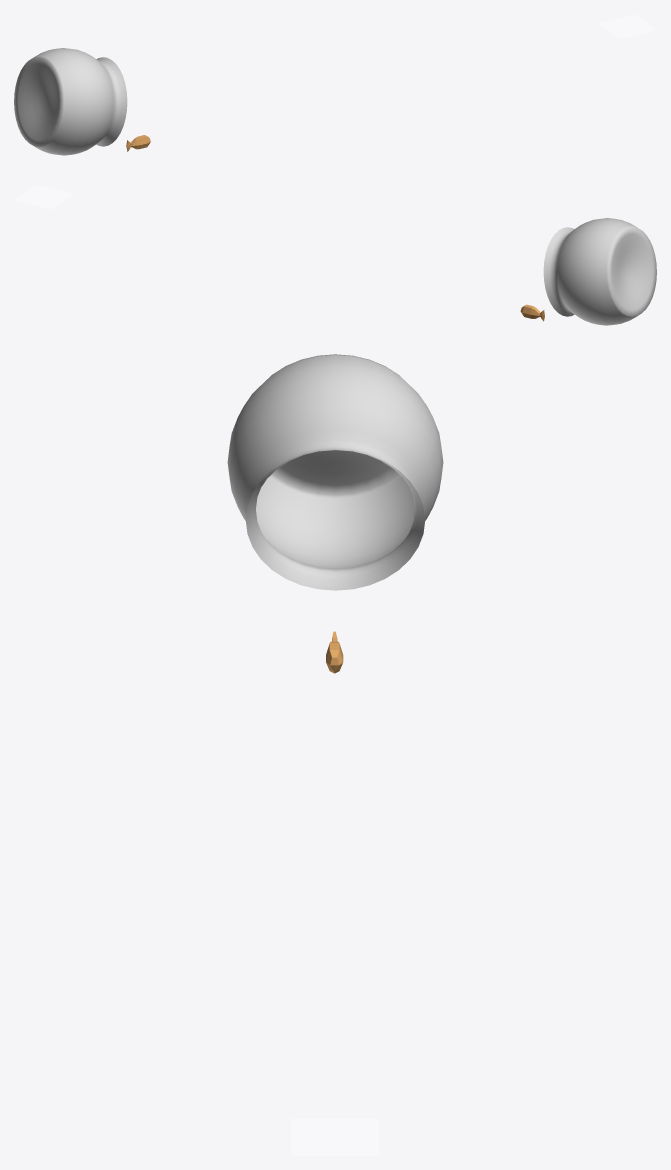
Rendered from untitled.done.glb.
3 renders of one model, top to bottom at view 1: azimuth 30°, elevation 25°; view 2: azimuth 150°, elevation 25°; view 3: azimuth 270°, elevation 25°, orthographic. The views are drawn at different scales.
Visible parts, largest first — view 1: Sphere, Plane, Cube; view 2: Sphere, Plane, Cube; view 3: Sphere, Plane.
Boxes of the visible parts, x1,y1,x2,y2 form: Sphere: (14,48,127,155); Plane: (598,15,655,38); Cube: (126,135,150,151); Sphere: (543,218,656,325); Plane: (15,184,72,208); Cube: (520,304,544,321); Sphere: (227,354,443,590); Plane: (291,1119,378,1155).
Size of the model in its own units: 32.48 by 5.76 by 4.92.
